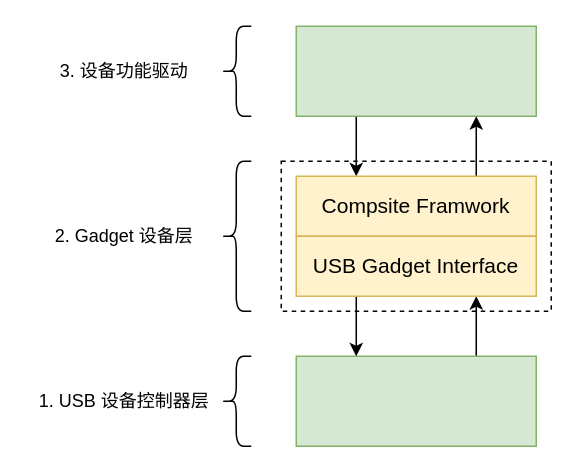
Some shapes in this 578 by 473 pixel diagram are drawn without their labels. Each missing label, with the centre of its shape:
Device Control driver: point (415, 400)
设备功能驱动 Function driver: point (415, 70)
